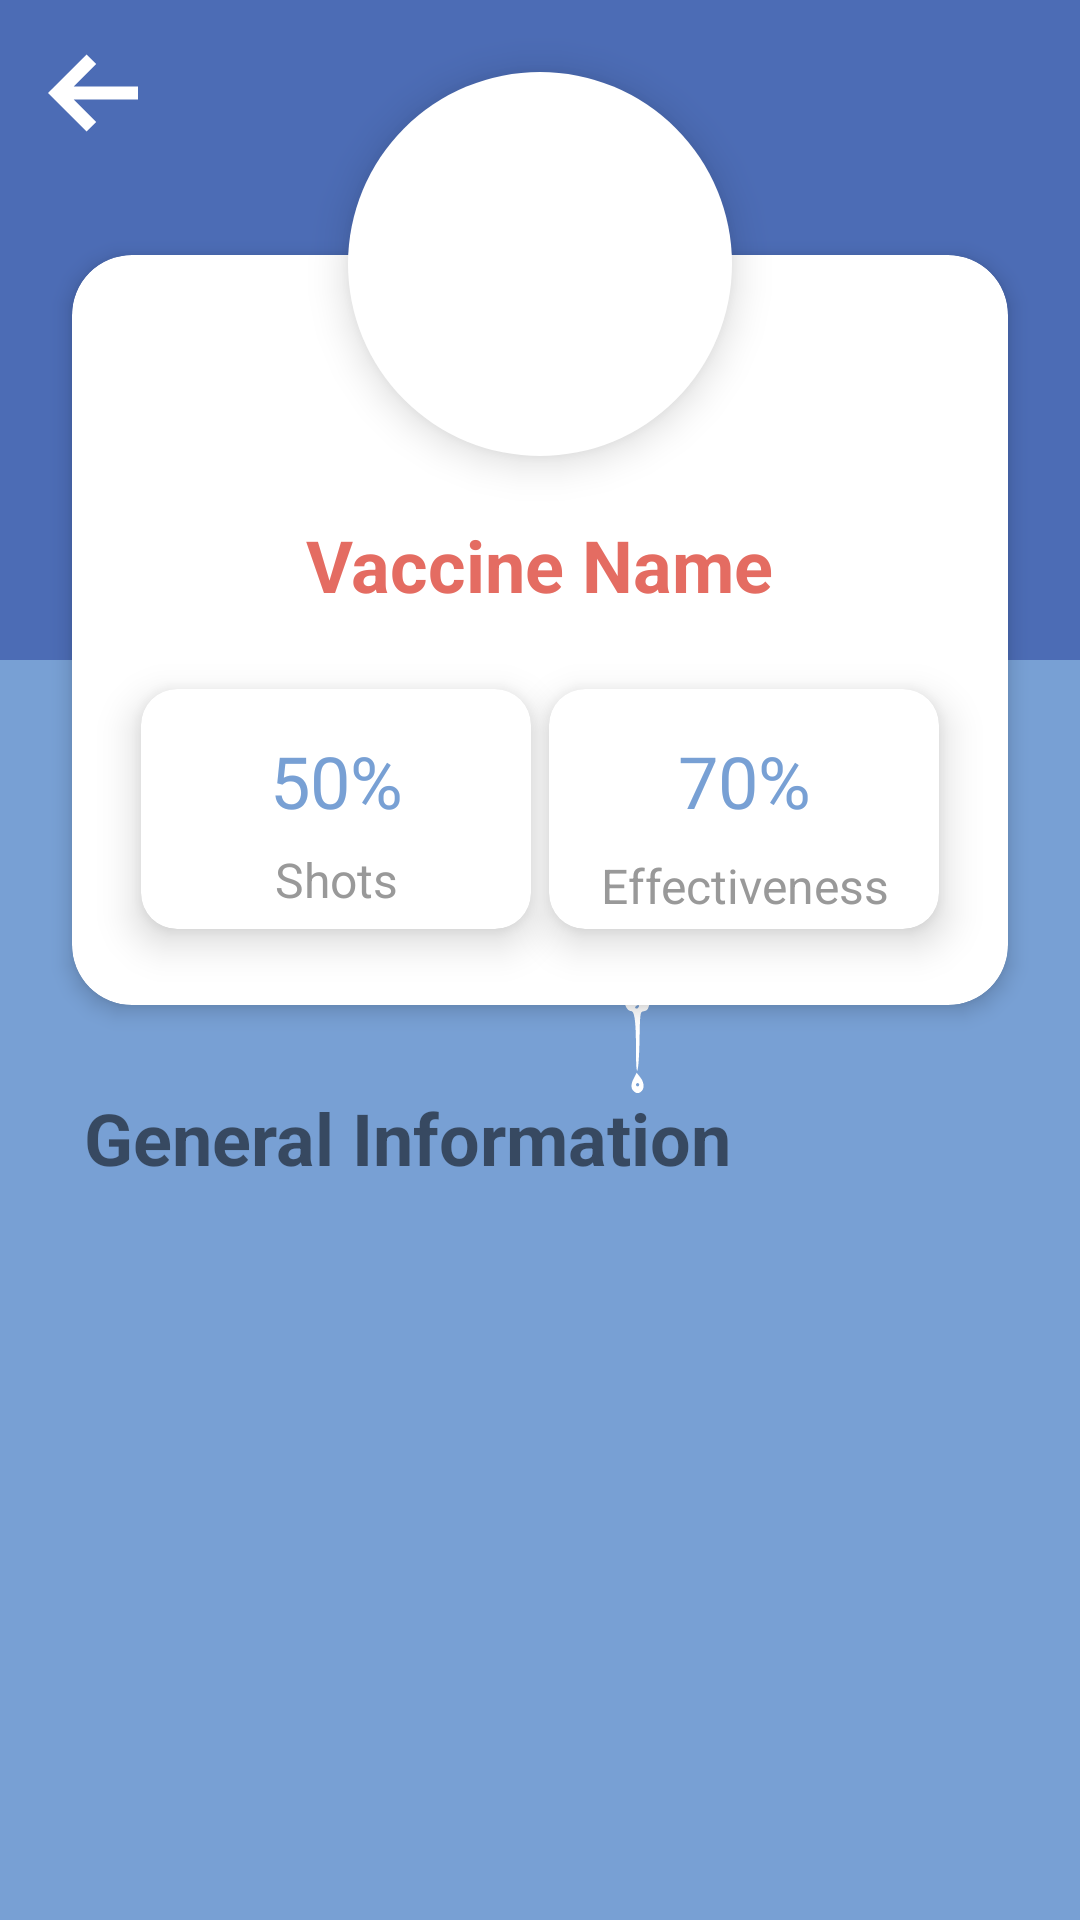

Where icons sit on this 1080×1920 app screen, as box(x1, y1, x2, y2):
arrow back: box(48, 54, 138, 132)
